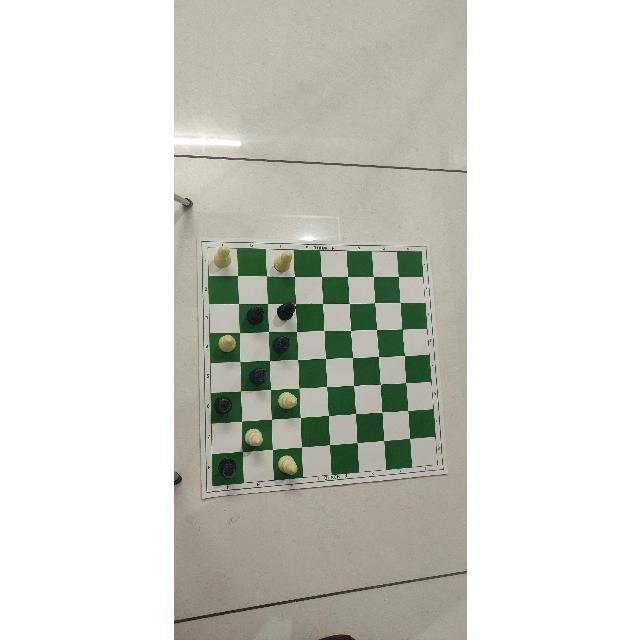black-bishop: (240, 363, 269, 389), (211, 394, 239, 420), (270, 301, 296, 328), (269, 334, 296, 360), (238, 305, 267, 329), (214, 455, 238, 480)
white-bishop: (208, 244, 235, 275), (242, 423, 272, 448), (210, 335, 238, 361), (274, 451, 300, 478), (266, 249, 294, 274), (271, 391, 298, 416)
